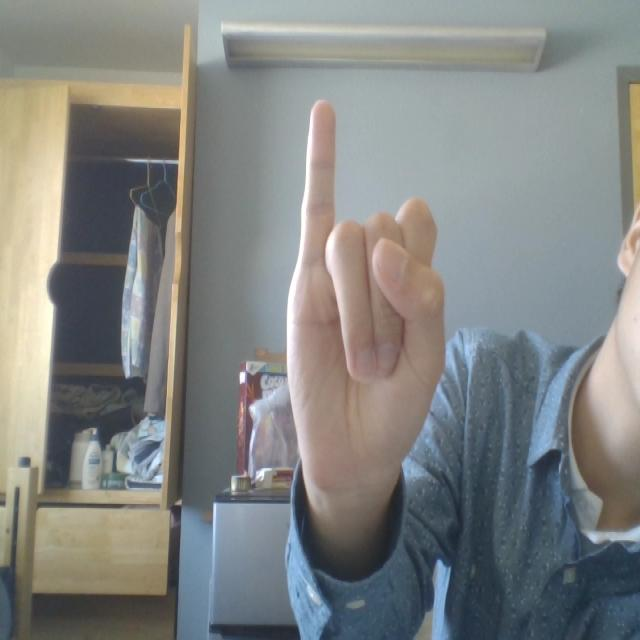I: (250, 68, 492, 534)
